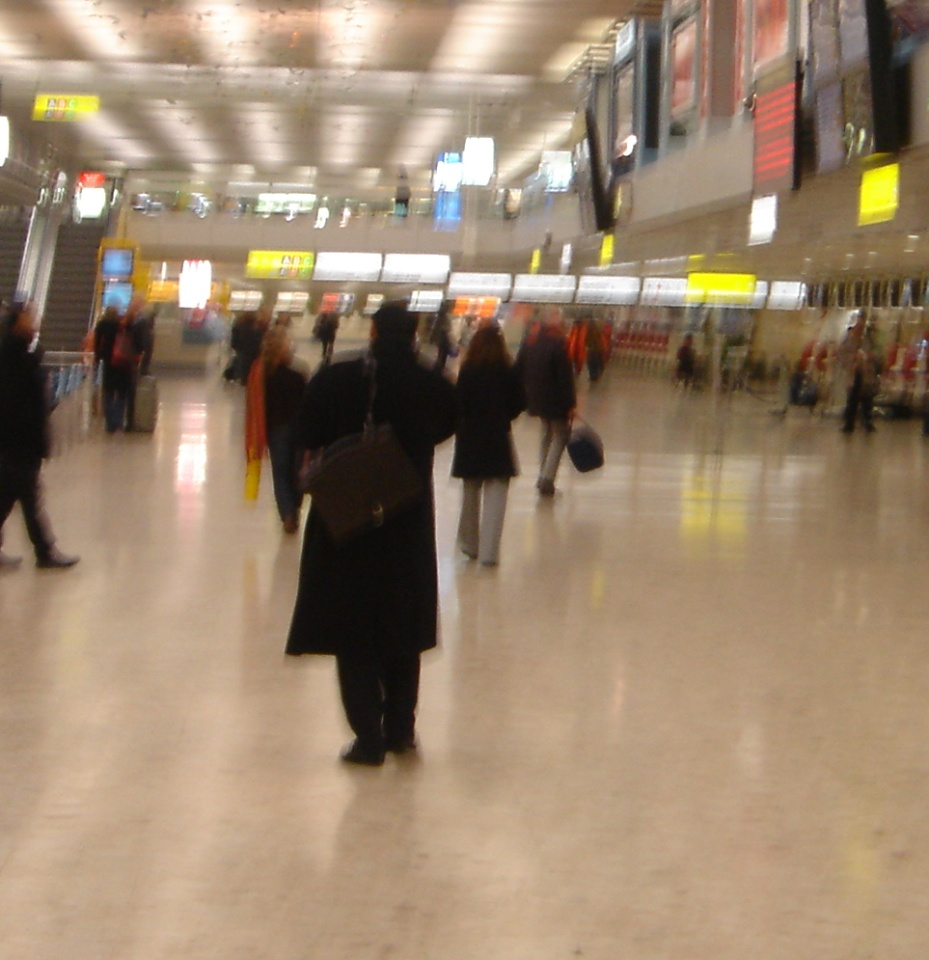person: (308, 298, 448, 775), (450, 316, 519, 570)
